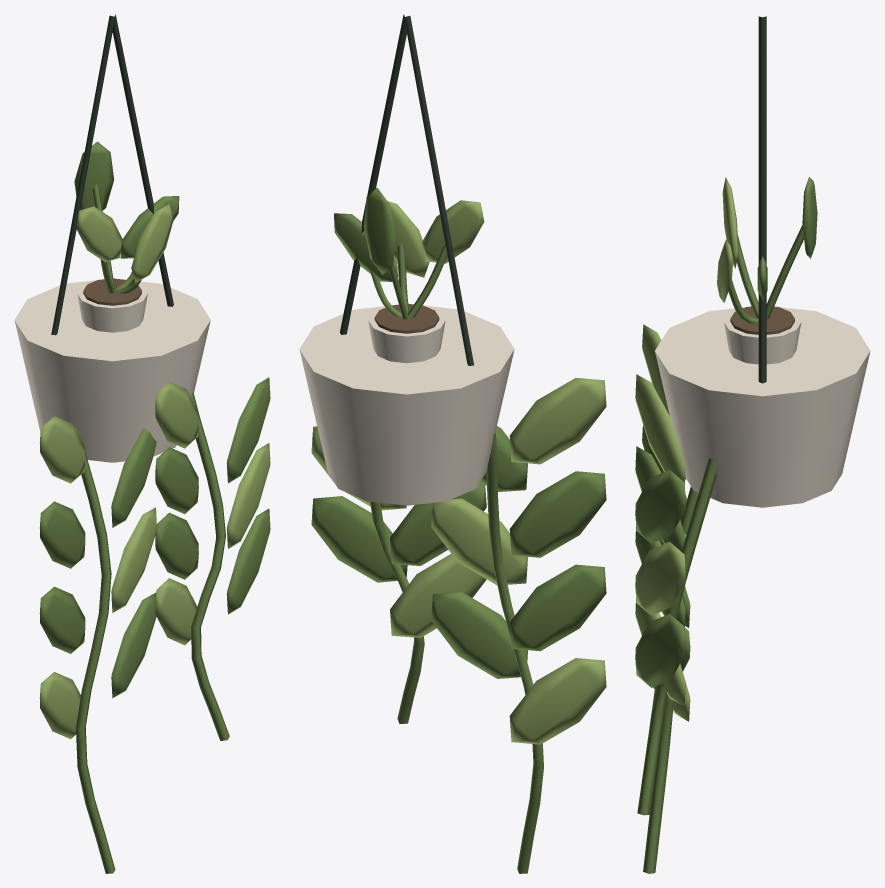
File: bathroom_ref_hanging_plant.glb
3 views of the same model, side by side, from view 1: azimuth 30°, elevation 25°; view 2: azimuth 150°, elevation 25°; view 3: azimuth 270°, elevation 25° (orthographic). The views are drawn at different scales.
Size of the model in its own units: 0.558 by 1.72 by 0.4142.
